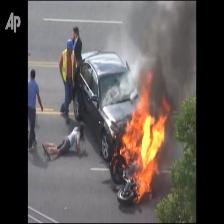fire: (120, 72, 172, 201)
